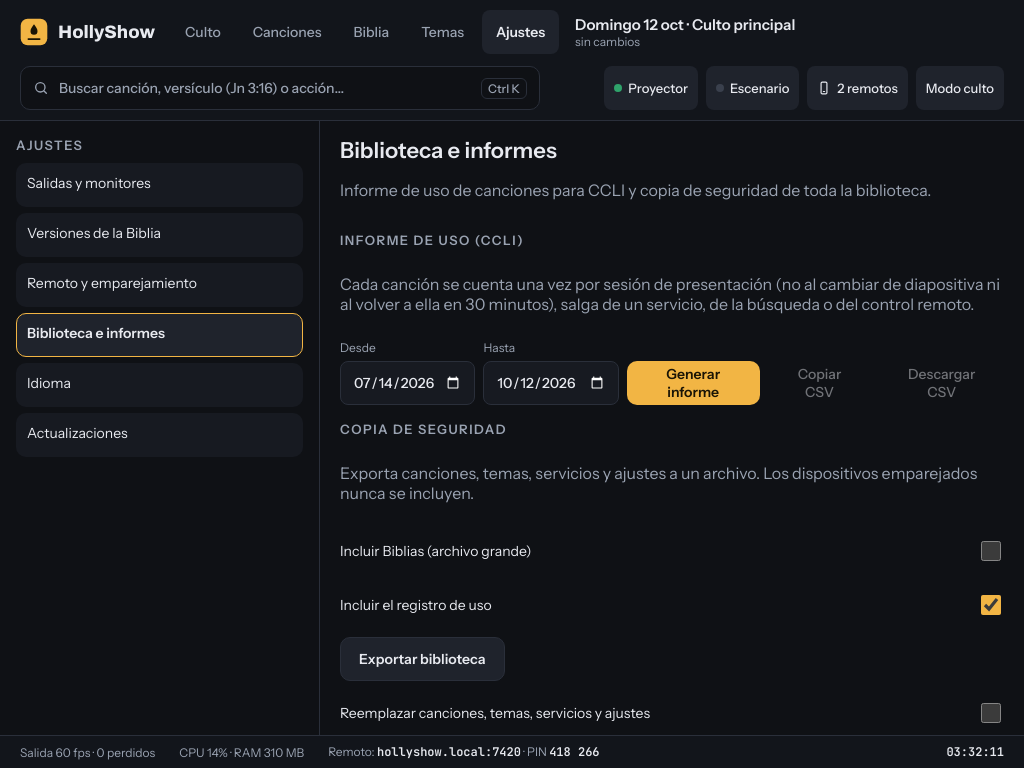
Test: library settings › lists the songs shown in the period
Click the button "Generar informe": (693, 383) [627, 361, 760, 405]
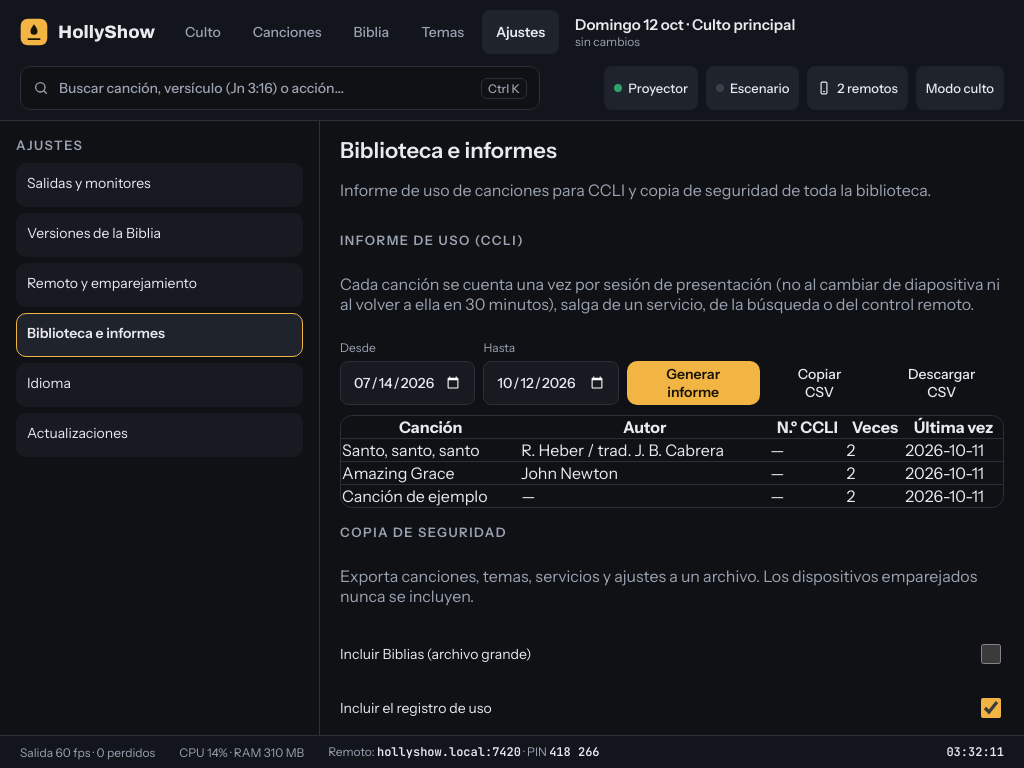
Now the table named "Informe de uso" shows "Santo, santo, santo", box [342, 440, 480, 460]
